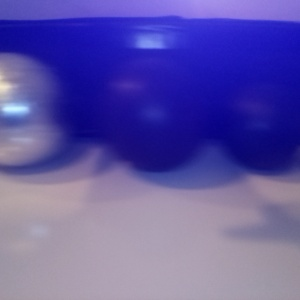dead_ball: (110, 47, 232, 172), (260, 73, 300, 166)
